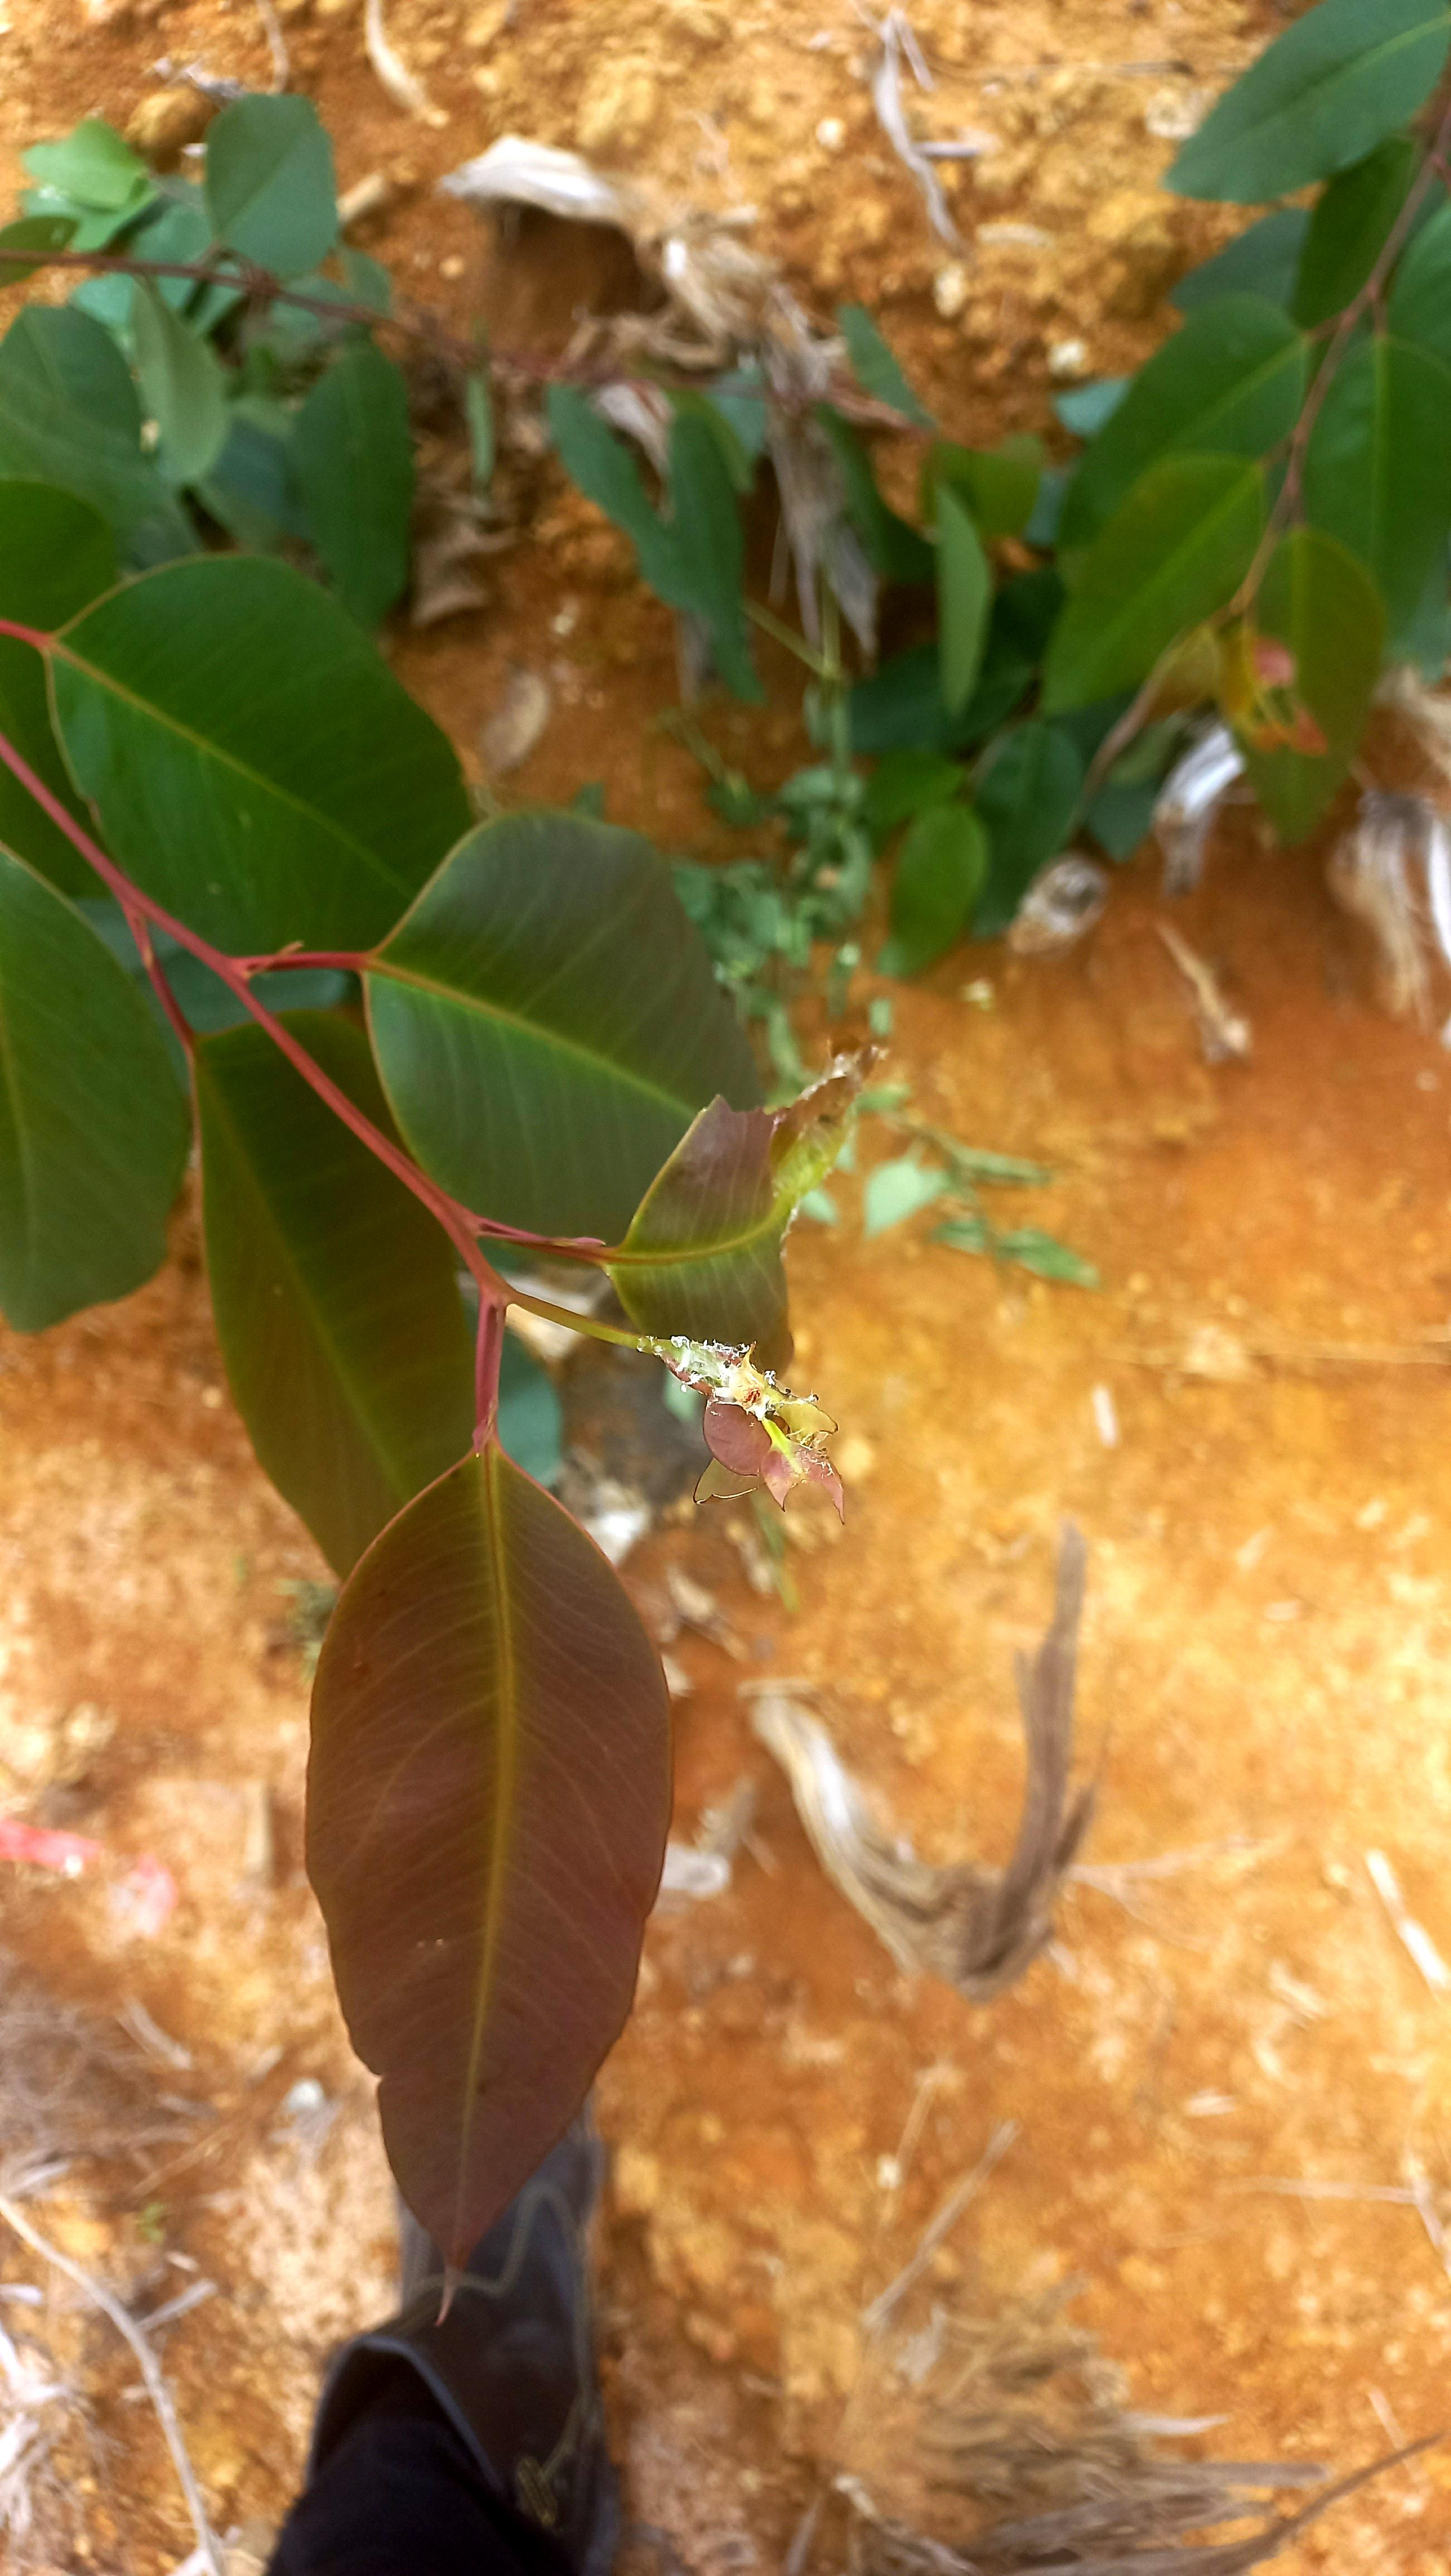Leaf Roller - Leaf: (614, 1040, 874, 1399), (660, 1338, 851, 1525)
